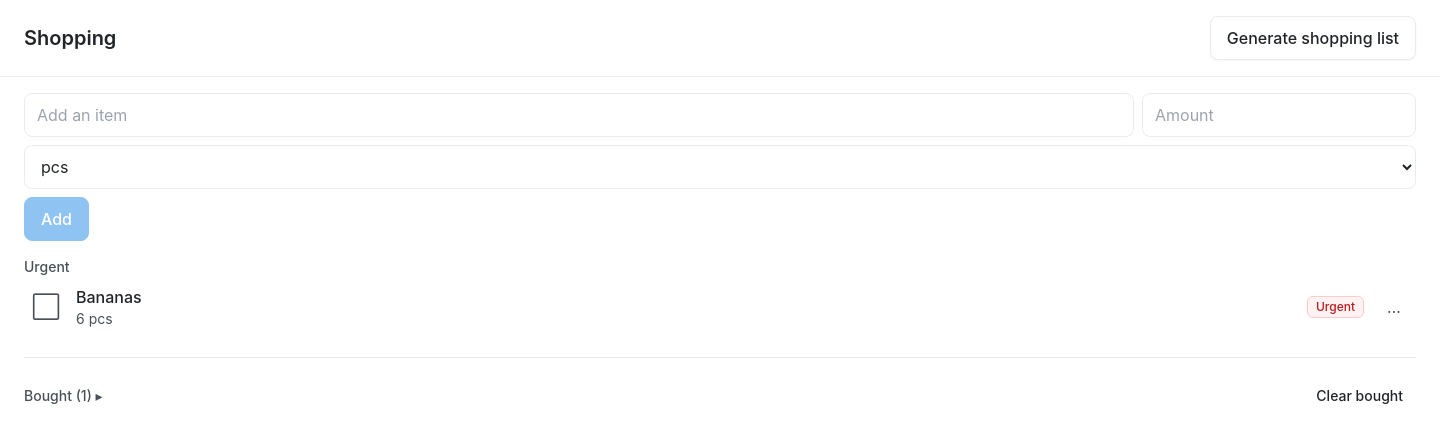
Test: The Shopping screen › clears bought items
The image size is (1440, 435).
Expected: the button "Bought (1) ▸" is shown, left=24, top=374, right=103, bottom=418
Click the button "Clear bought". click: x=1360, y=396
box: left=1303, top=378, right=1416, bottom=414
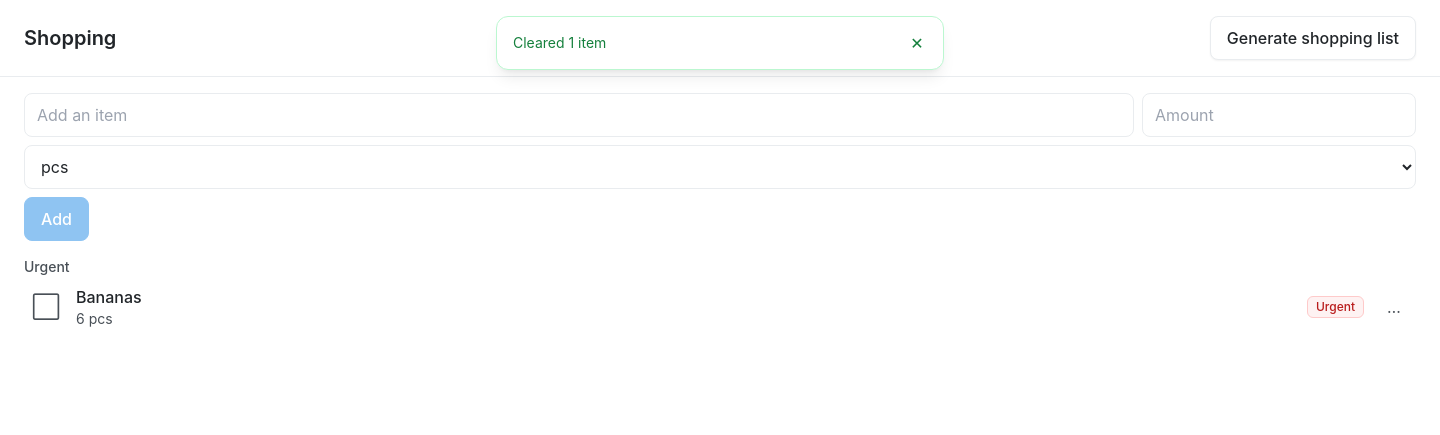
Result: the button "Bought (" is gone
